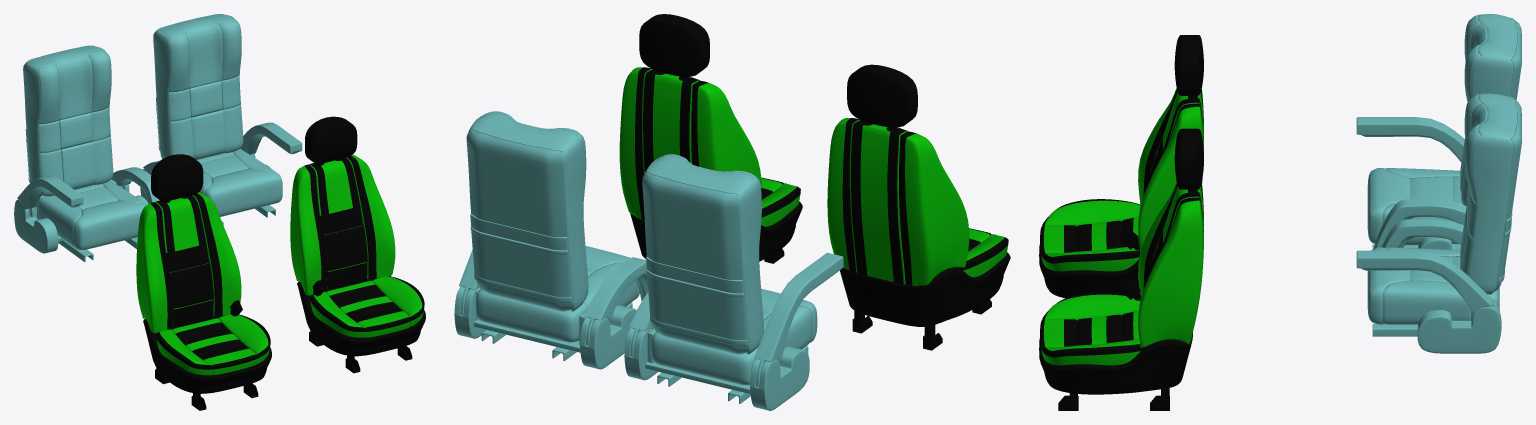
File: FHXY_02BX_A11_ZuoYi_MD_exp.fbx
3 renders of one model, left to right at view 1: azimuth 30°, elevation 25°; view 2: azimuth 150°, elevation 25°; view 3: azimuth 270°, elevation 25°, orthographic. The views are drawn at different scales.
Parts seen in each view (by area): view 1: mirrored_x_6, FHXY_02BX_A11_ZuoYi_MD_L_1, mirrored_x_5, FHXY_02BX_A11_ZuoYi_MD_L_2; view 2: mirrored_x_5, FHXY_02BX_A11_ZuoYi_MD_L_2, mirrored_x_6, FHXY_02BX_A11_ZuoYi_MD_L_1; view 3: FHXY_02BX_A11_ZuoYi_MD_L_2, FHXY_02BX_A11_ZuoYi_MD_L_1, mirrored_x_6, mirrored_x_5.
Boxes of the visible parts, x1,y1,x2,y2 form: mirrored_x_6: (136,154,271,410); FHXY_02BX_A11_ZuoYi_MD_L_1: (290,116,425,373); mirrored_x_5: (14,45,159,262); FHXY_02BX_A11_ZuoYi_MD_L_2: (140,14,302,225); mirrored_x_5: (624,154,843,410); FHXY_02BX_A11_ZuoYi_MD_L_2: (454,111,648,369); mirrored_x_6: (827,64,1010,350); FHXY_02BX_A11_ZuoYi_MD_L_1: (619,14,802,263); FHXY_02BX_A11_ZuoYi_MD_L_2: (1356,93,1521,353); FHXY_02BX_A11_ZuoYi_MD_L_1: (1039,128,1203,410); mirrored_x_6: (1039,35,1203,298); mirrored_x_5: (1356,14,1521,250).
Bounding box in the file's own units: 143 × 120 × 191.
